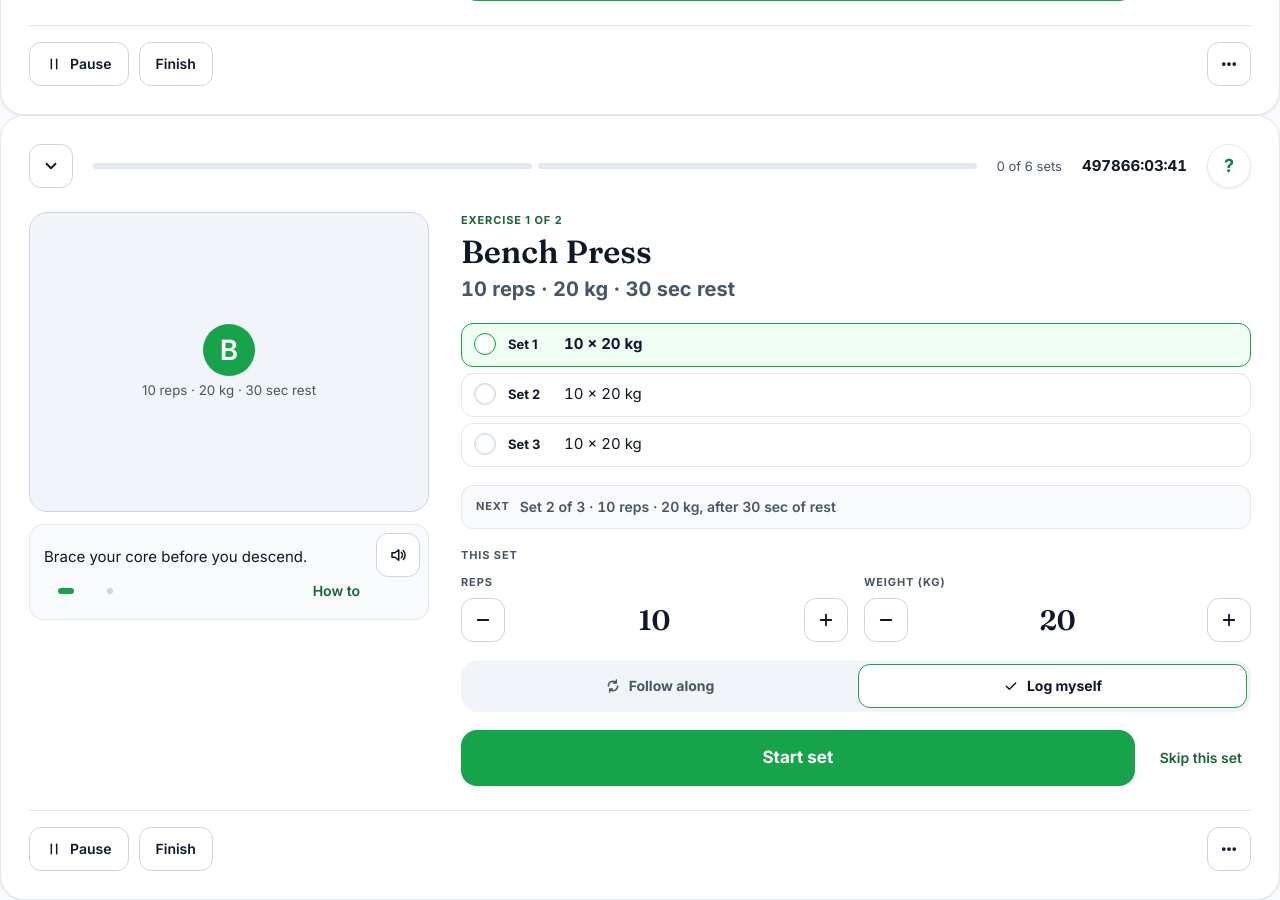
Scenario: ExercisePlayerComponent › a session started from a weekly plan › working through the sets › shows a set ready first: nothing counts down until Start set is pressed
The width and height of the screenshot is (1280, 900).
(page scrolled)
Expected: the element showing "Brace your core before you descend. How to" is shown, [29,524,429,620]
Step 1. Click the button with class "start-set" below "Set 3" → point(798, 758), box [461,730,1135,786]
(page scrolled)
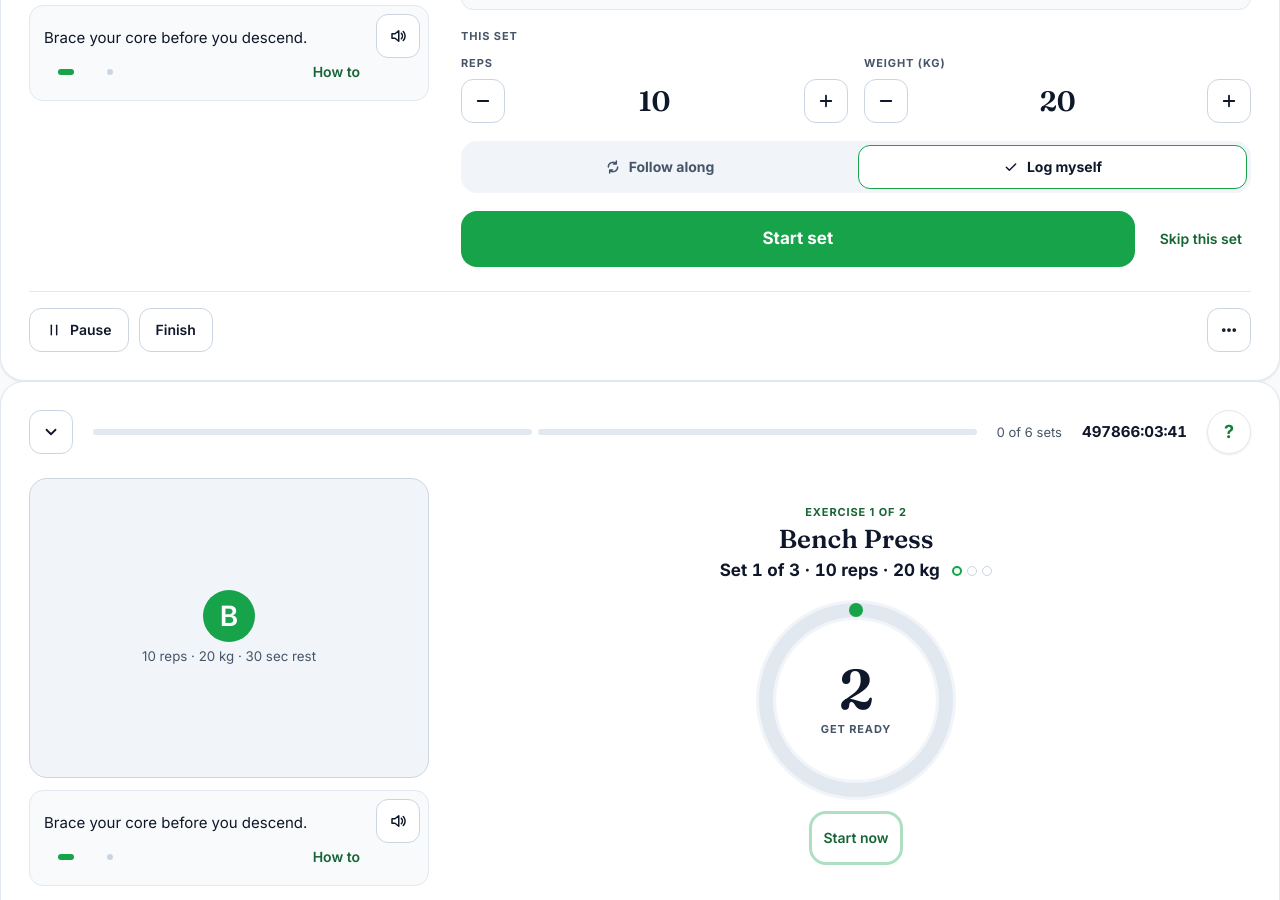
Now the element with class "line" reads "Set 1 of 3 · 10 reps · 20 kg", box [720,560,944,580]
